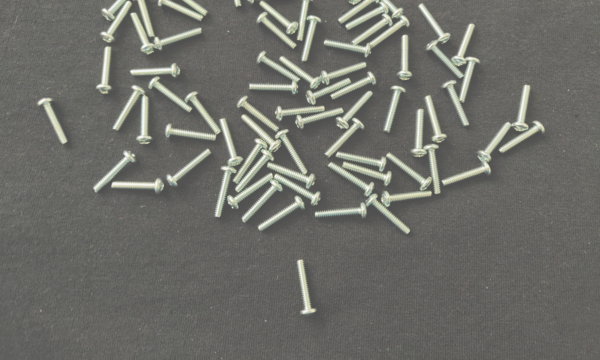longscrew: (92, 149, 138, 194), (165, 147, 214, 189), (385, 150, 434, 192), (364, 194, 413, 235), (241, 180, 284, 225), (227, 171, 275, 210), (110, 83, 147, 133), (257, 195, 307, 232), (325, 161, 375, 198), (323, 117, 366, 159), (235, 148, 275, 193), (232, 137, 268, 186), (147, 76, 194, 113), (498, 119, 546, 155), (240, 113, 283, 153), (185, 91, 222, 137), (36, 97, 70, 147), (273, 173, 323, 207), (335, 89, 375, 130), (424, 40, 465, 80), (256, 12, 299, 50), (476, 121, 513, 165), (236, 96, 281, 132), (255, 50, 302, 84), (275, 129, 309, 176), (367, 15, 411, 51), (440, 78, 471, 129), (266, 161, 318, 190), (441, 160, 493, 189), (279, 55, 322, 90), (417, 2, 452, 45), (100, 0, 134, 44), (258, 0, 299, 36), (342, 160, 394, 188), (330, 72, 378, 102), (295, 259, 318, 320), (218, 117, 245, 168), (351, 14, 394, 46), (305, 76, 352, 105), (153, 26, 205, 52), (381, 86, 408, 136), (344, 2, 390, 31), (423, 93, 449, 144), (213, 165, 237, 220), (422, 142, 445, 196), (320, 61, 369, 86), (130, 12, 157, 57), (450, 22, 477, 67), (295, 106, 345, 130), (313, 202, 369, 223), (335, 151, 388, 173), (458, 56, 482, 104), (300, 14, 323, 64), (511, 83, 533, 134), (110, 178, 166, 198), (337, 0, 380, 25), (157, 0, 205, 22), (323, 38, 373, 59), (409, 106, 428, 161), (164, 124, 217, 143), (381, 189, 434, 208), (135, 95, 154, 147), (274, 104, 327, 122), (95, 45, 114, 95), (131, 0, 156, 38), (395, 34, 414, 83), (295, 0, 316, 43), (129, 63, 182, 80), (101, 0, 141, 22), (366, 0, 404, 21), (247, 81, 300, 96), (166, 0, 210, 18), (246, 0, 296, 6), (221, 0, 244, 10), (345, 0, 364, 7)
